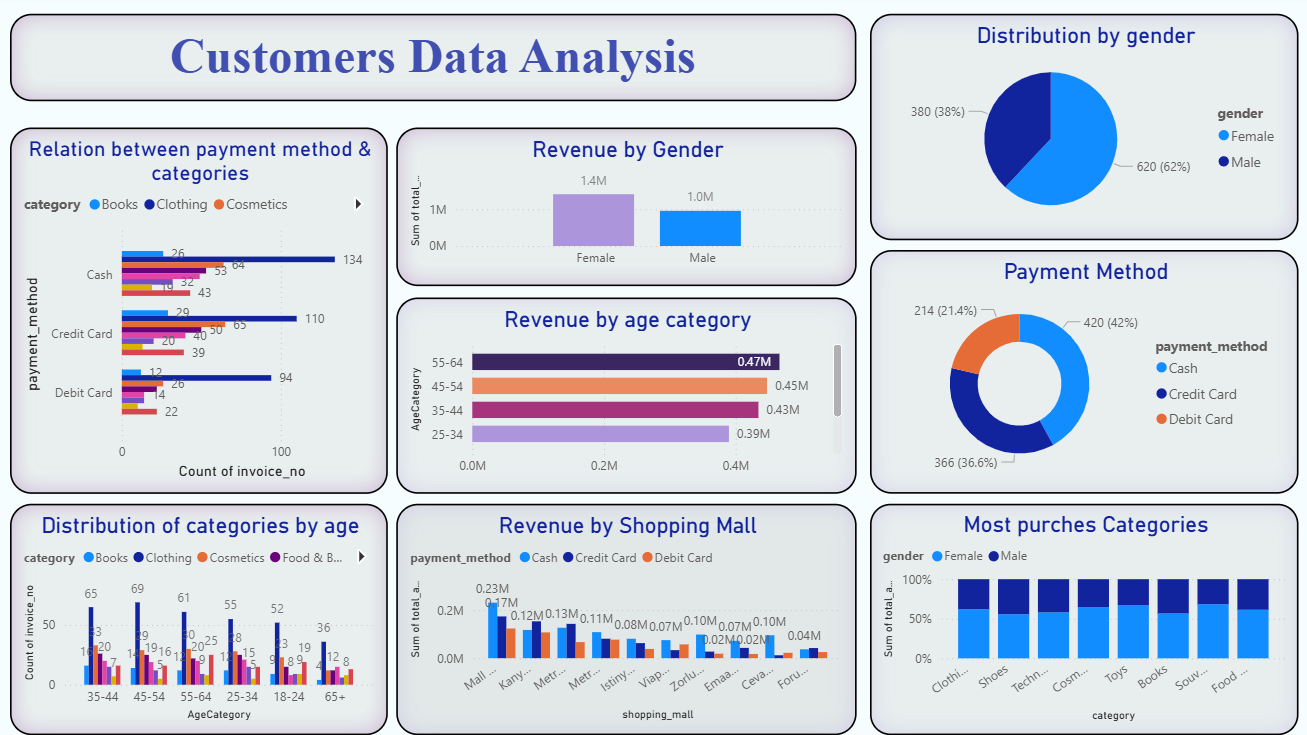

Layout of this report page (visuals, bound fields, positions):
{"tool":"powerbi","page":{"name":"Dashboard","canvas":[1280,720],"ordinal":1},"visuals":[{"type":"pieChart","title":"Distribution by gender","fields":{"Y":["CountNonNull(customer data.invoice_no)"],"Category":["customer data.gender"]},"box":[851.1,13.5,429.2,221.3],"z":0},{"type":"columnChart","title":"Revenue by Gender","fields":{"Y":["Sum(customer data.total_amount)"],"Category":["customer data.gender"]},"box":[387.6,124.7,450,155.3],"z":1000},{"type":"clusteredColumnChart","title":"Distribution of categories by age","fields":{"Series":["customer data.category"],"Category":["customer data.AgeCategory"],"Y":["CountNonNull(customer data.invoice_no)"]},"box":[0,492.5,378.8,227.5],"z":2000},{"type":"clusteredBarChart","title":"Relation between payment method & categories","fields":{"Category":["customer data.payment_method"],"Y":["CountNonNull(customer data.invoice_no)"],"Series":["customer data.category"]},"box":[9.8,124.7,369.3,358.3],"z":3000},{"type":"donutChart","title":"Payment Method","fields":{"Y":["CountNonNull(customer data.invoice_no)"],"Category":["customer data.payment_method"]},"box":[851.1,244.6,429.2,238.5],"z":4000},{"type":"textbox","box":[9.8,13.5,827.9,85.6],"z":5000},{"type":"hundredPercentStackedColumnChart","title":"Most purches Categories","fields":{"Series":["customer data.gender"],"Y":["Sum(customer data.total_amount)"],"Category":["customer data.category"]},"box":[850.6,492.7,427.2,226.7],"z":6000},{"type":"barChart","title":"Revenue by age category","fields":{"Y":["Sum(customer data.total_amount)"],"Category":["customer data.AgeCategory"]},"box":[387.6,291,450,192],"z":7000},{"type":"clusteredColumnChart","title":"Revenue by Shopping Mall","fields":{"Category":["customer data.shopping_mall"],"Y":["Sum(customer data.total_amount)"],"Series":["customer data.payment_method"]},"box":[387.5,492.5,450,226.2],"z":8000}]}

Visuals, with their boxes in screenshot pixels (x1, y1, x2, y2), scaled from the page's 1280x720 canvas onto the 1307x735 screenshot:
"Distribution by gender" pieChart: [869,14,1306,240]
"Revenue by Gender" columnChart: [396,127,855,286]
"Distribution of categories by age" clusteredColumnChart: [0,503,387,734]
"Relation between payment method & categories" clusteredBarChart: [10,127,387,493]
"Payment Method" donutChart: [869,250,1306,493]
textbox: [10,14,855,101]
"Most purches Categories" hundredPercentStackedColumnChart: [869,503,1305,734]
"Revenue by age category" barChart: [396,297,855,493]
"Revenue by Shopping Mall" clusteredColumnChart: [396,503,855,734]
